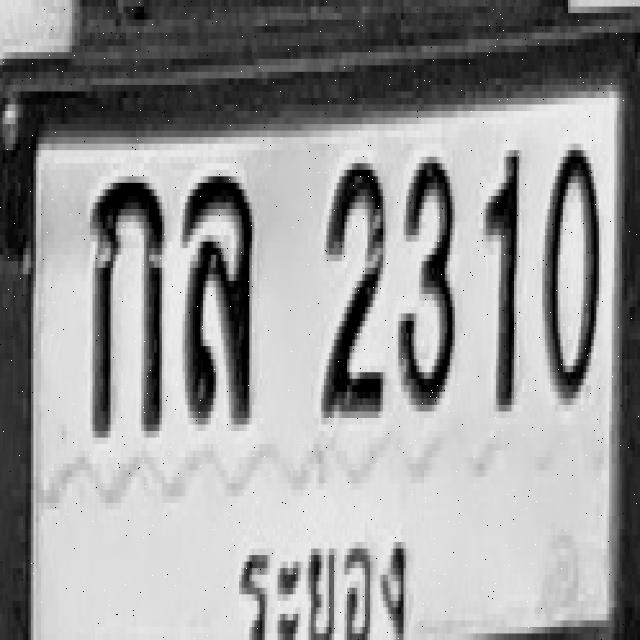0: (542, 144, 598, 398)
1: (483, 147, 519, 408)
10GorGai: (90, 173, 164, 434)
2: (322, 157, 384, 411)
3: (398, 154, 454, 408)
45LorLing: (182, 170, 252, 418)
Rayong: (238, 527, 420, 640)
